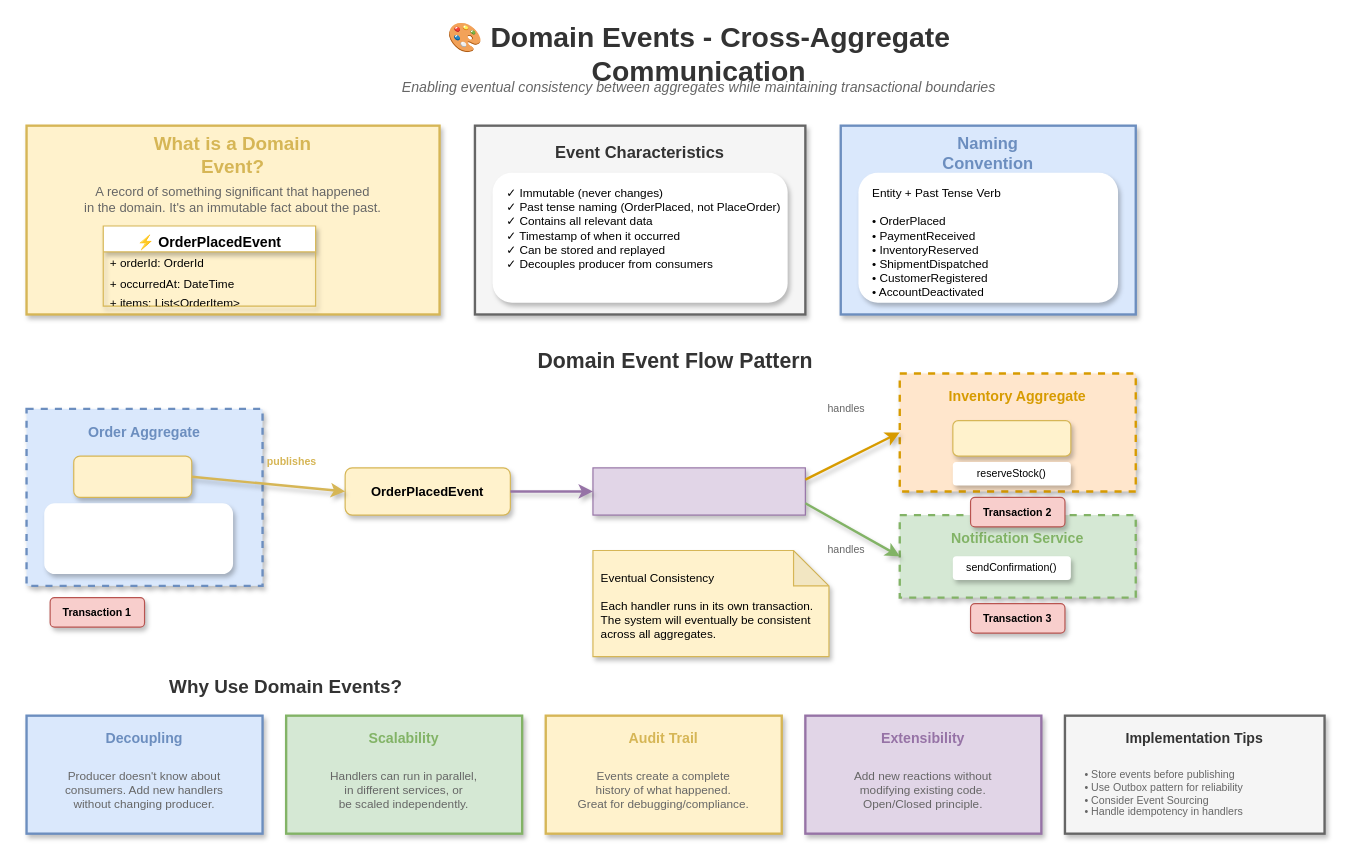
Some shapes in this 1352 by 863 pixel diagram are drawn without their labels. The shapes that lost their labels are listed below. From the top down, each one's centre as x and y in pixels, then its label:
the point at 1012,439: Inventory (Root)
the point at 133,478: Order (Root)
the point at 699,492: Event Bus / Message Broker
the point at 139,540: place() { // business logic registerEvent(new OrderPlacedEvent(...)) }
